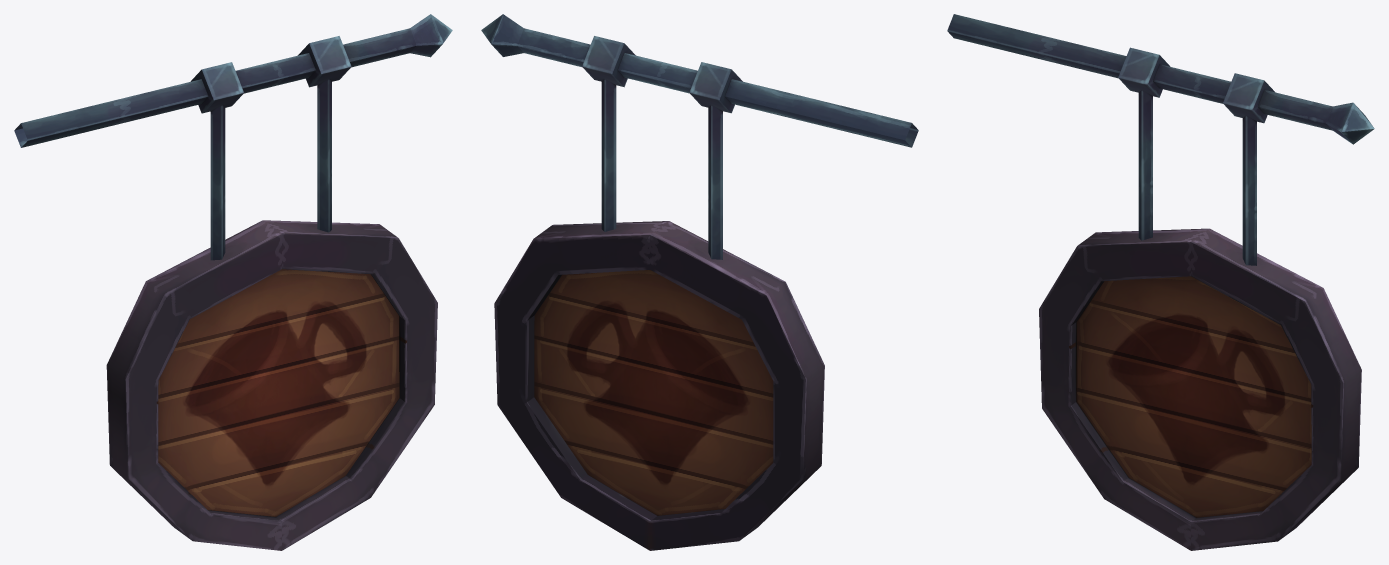
File: building_sign_02.fbx
3 renders of one model, left to right at view 1: azimuth 30°, elevation 25°; view 2: azimuth 150°, elevation 25°; view 3: azimuth 330°, elevation 25°, orthographic. The views are drawn at different scales.
Parts seen in each view (by area): view 1: building_sign_02; view 2: building_sign_02; view 3: building_sign_02.
Part boxes in pixels (x1,y1,x2,y2): building_sign_02: [14, 14, 452, 550]; building_sign_02: [481, 14, 918, 550]; building_sign_02: [947, 14, 1374, 550].
Size of the model in its own units: 2.43 by 2.65 by 0.2375.
